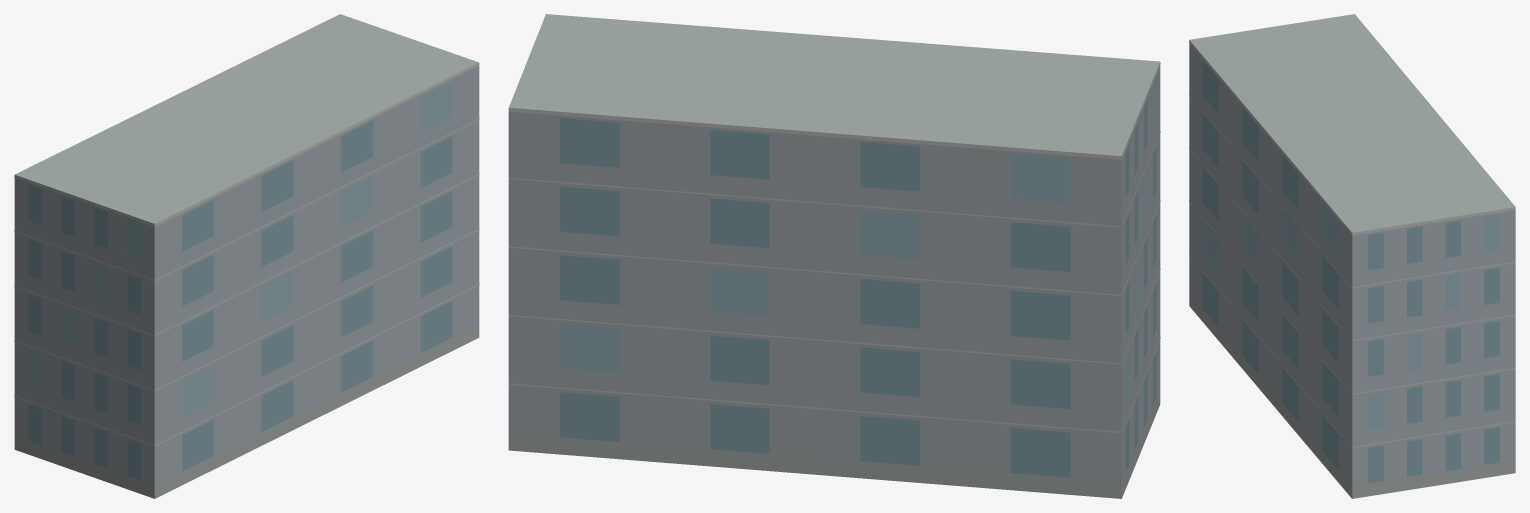
The model's file is survey-upis-32849762.glb.
The picture shows the model from 3 angles, left to right: view 1: azimuth 30°, elevation 25°; view 2: azimuth 150°, elevation 25°; view 3: azimuth 270°, elevation 25°; orthographic projection. The views are drawn at different scales.
Parts seen in each view (by area): view 1: survey-upis-32849762.tmp; view 2: survey-upis-32849762.tmp; view 3: survey-upis-32849762.tmp.
Boxes of the visible parts, bbox=[...] form: survey-upis-32849762.tmp: bbox=[14, 14, 479, 498]; survey-upis-32849762.tmp: bbox=[508, 14, 1160, 498]; survey-upis-32849762.tmp: bbox=[1189, 14, 1515, 498].
Bounding box in the file's own units: 38.56 × 21.85 × 24.32.
